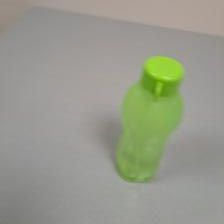bottle: (113, 54, 190, 183)
